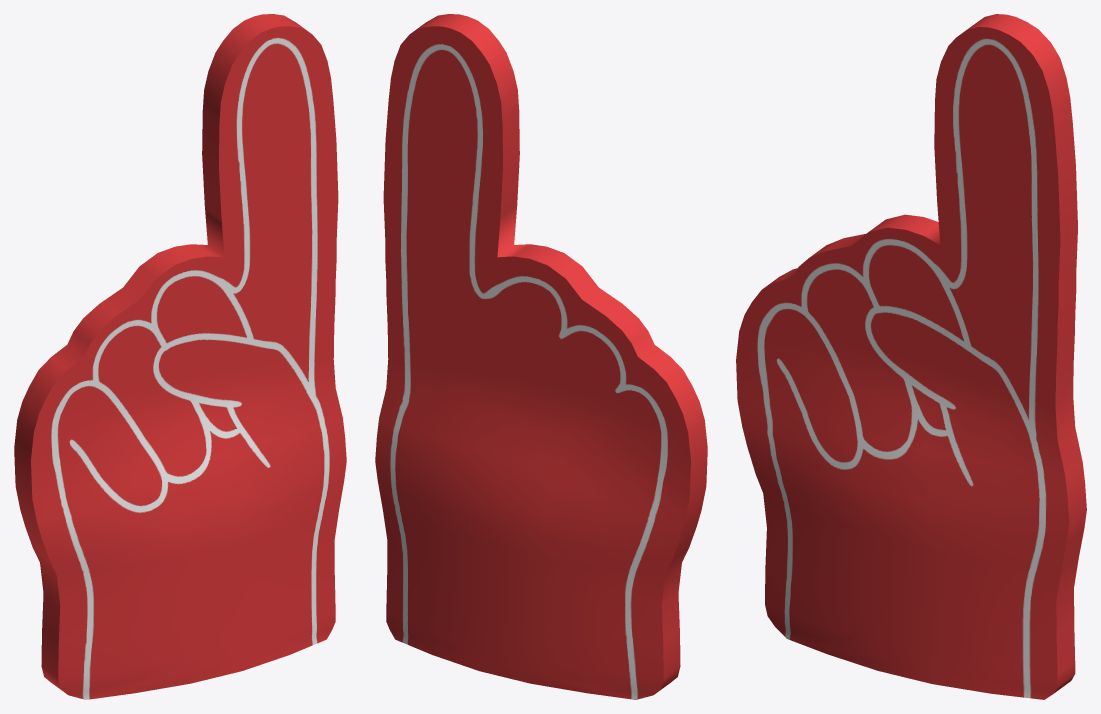
Rendered from foam_finger.fbx.
The picture shows the model from 3 angles, left to right: view 1: azimuth 30°, elevation 25°; view 2: azimuth 150°, elevation 25°; view 3: azimuth 330°, elevation 25°; orthographic projection. The views are drawn at different scales.
Visible parts, largest first — view 1: FoamFinger; view 2: FoamFinger; view 3: FoamFinger.
Part boxes in pixels (<box>): FoamFinger: <box>14,14,346,699</box>; FoamFinger: <box>375,14,707,699</box>; FoamFinger: <box>736,14,1086,699</box>.
Size of the model in its own units: 126 by 238 by 29.56.
1 material, 1 textured.
